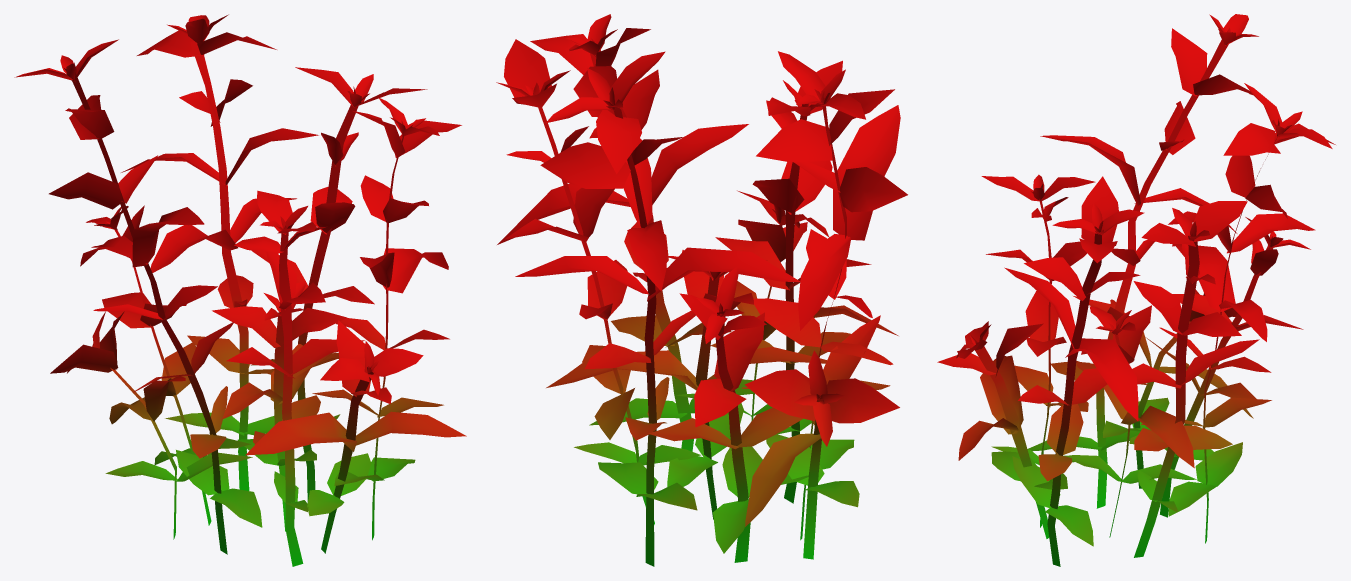
Rendered from Var3_LOD4.fbx.
3 views of the same model, side by side, from view 1: azimuth 30°, elevation 25°; view 2: azimuth 150°, elevation 25°; view 3: azimuth 270°, elevation 25° (orthographic). The views are drawn at different scales.
Parts seen in each view (by area): view 1: _jhb9_Var3_LOD4; view 2: _jhb9_Var3_LOD4; view 3: _jhb9_Var3_LOD4.
Part boxes in pixels (x1=…): _jhb9_Var3_LOD4: x1=14, y1=14, x2=466, y2=566; _jhb9_Var3_LOD4: x1=496, y1=14, x2=907, y2=566; _jhb9_Var3_LOD4: x1=937, y1=14, x2=1335, y2=566.
Size of the model in its own units: 37.96 by 45.94 by 36.49.
